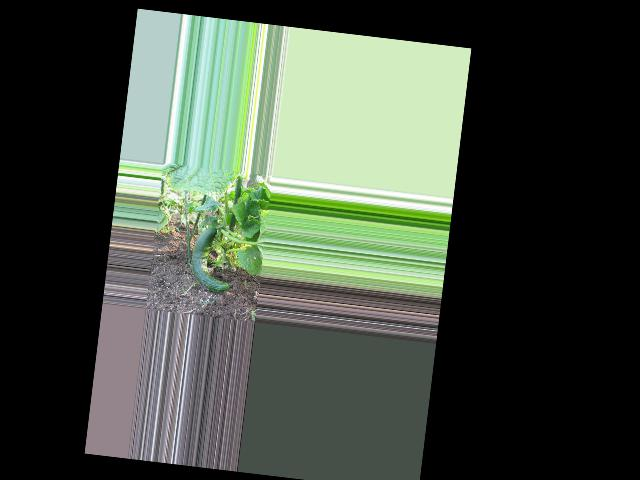cucumber: (187, 224, 236, 293)
